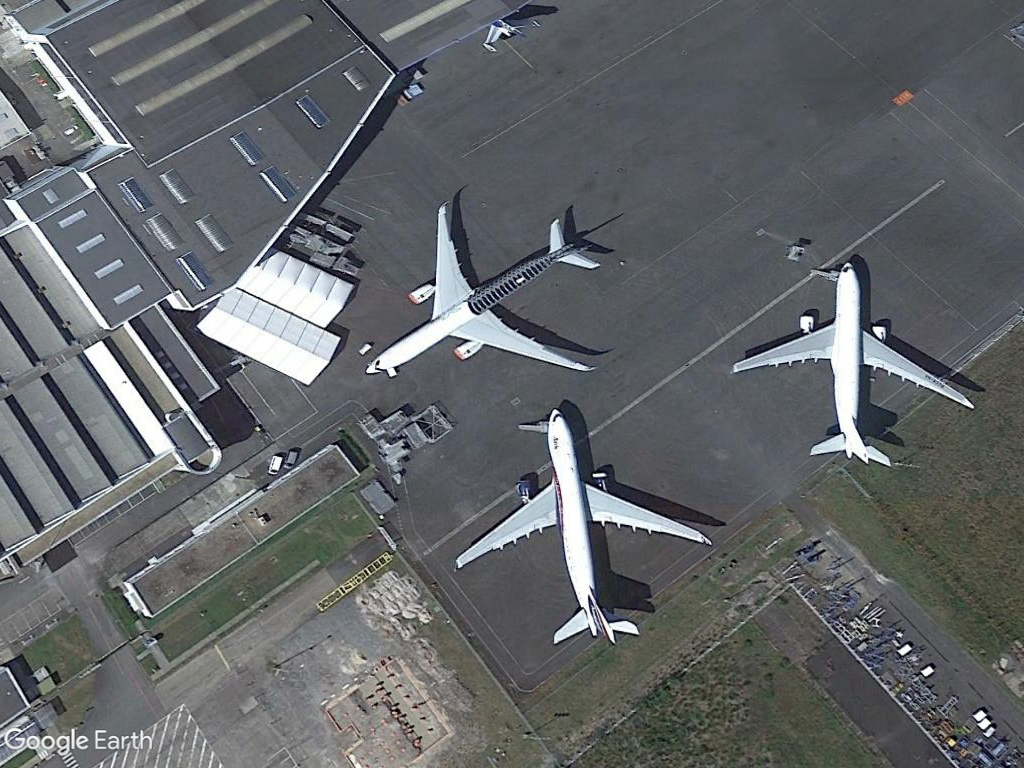airliner: (449, 405, 715, 647), (732, 255, 978, 476), (359, 202, 603, 382)
